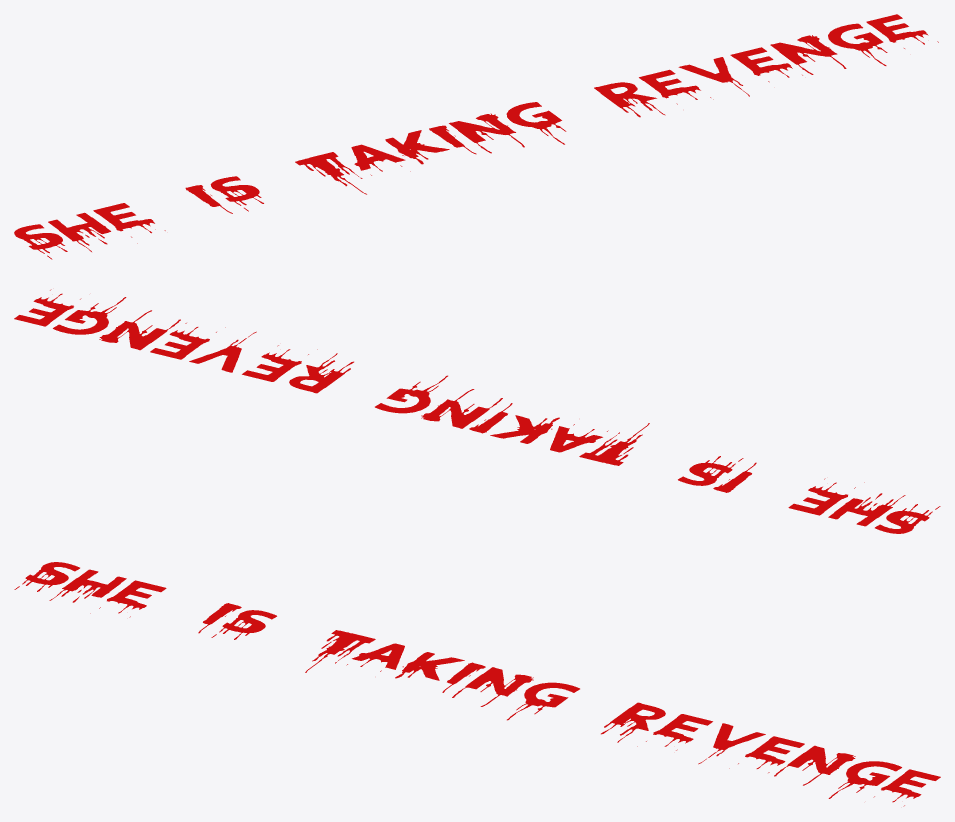
3 views of the same model, one above another, from view 1: azimuth 30°, elevation 25°; view 2: azimuth 150°, elevation 25°; view 3: azimuth 330°, elevation 25° (orthographic).
Parts seen in each view (by area): view 1: Text; view 2: Text; view 3: Text.
Part boxes in pixels (x1=…): Text: x1=14, y1=14, x2=938, y2=259; Text: x1=14, y1=289, x2=940, y2=533; Text: x1=14, y1=562, x2=940, y2=806.
Bounding box in the file's own units: 865 × 1.46e-05 × 89.87.
